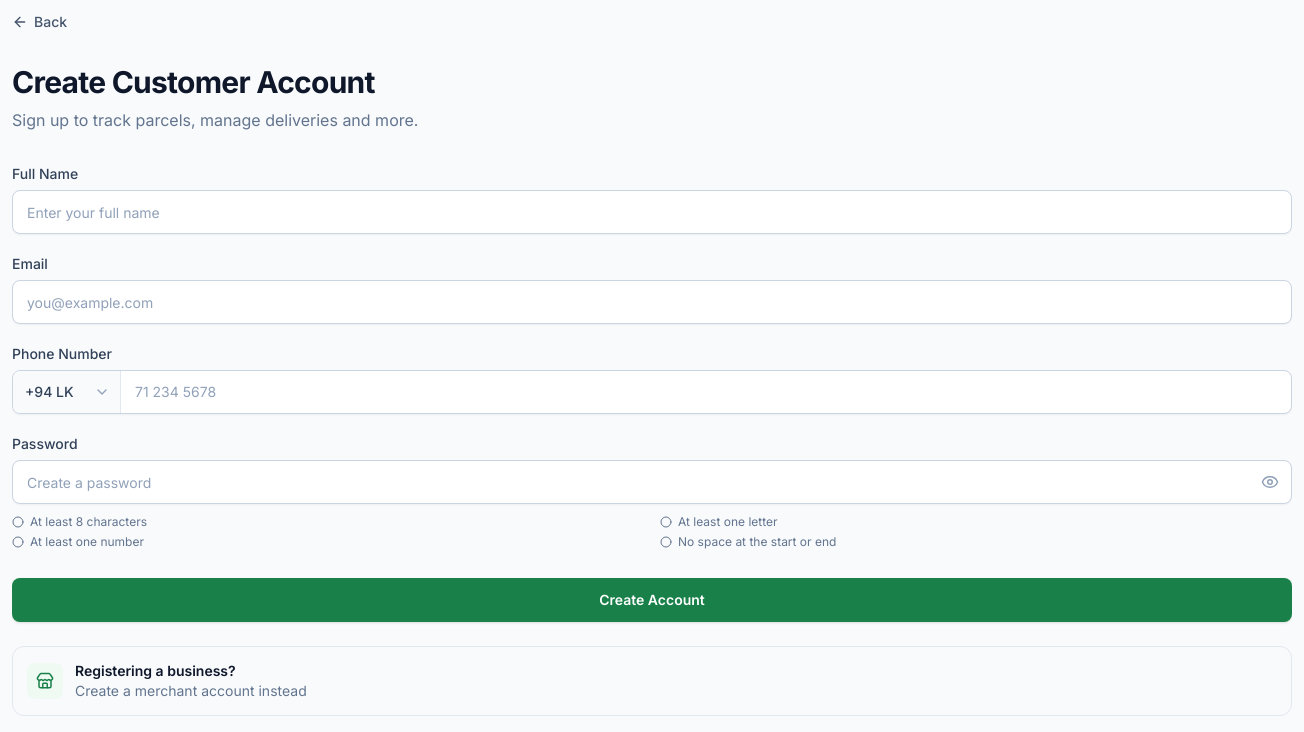
Test: CustomerSignupPage › checks the phone length for the selected country
This screenshot has width=1304, height=732.
In the field labelled "Phone Number": (706, 392) x1=121 y1=371 x2=1291 y2=413, type "71234"
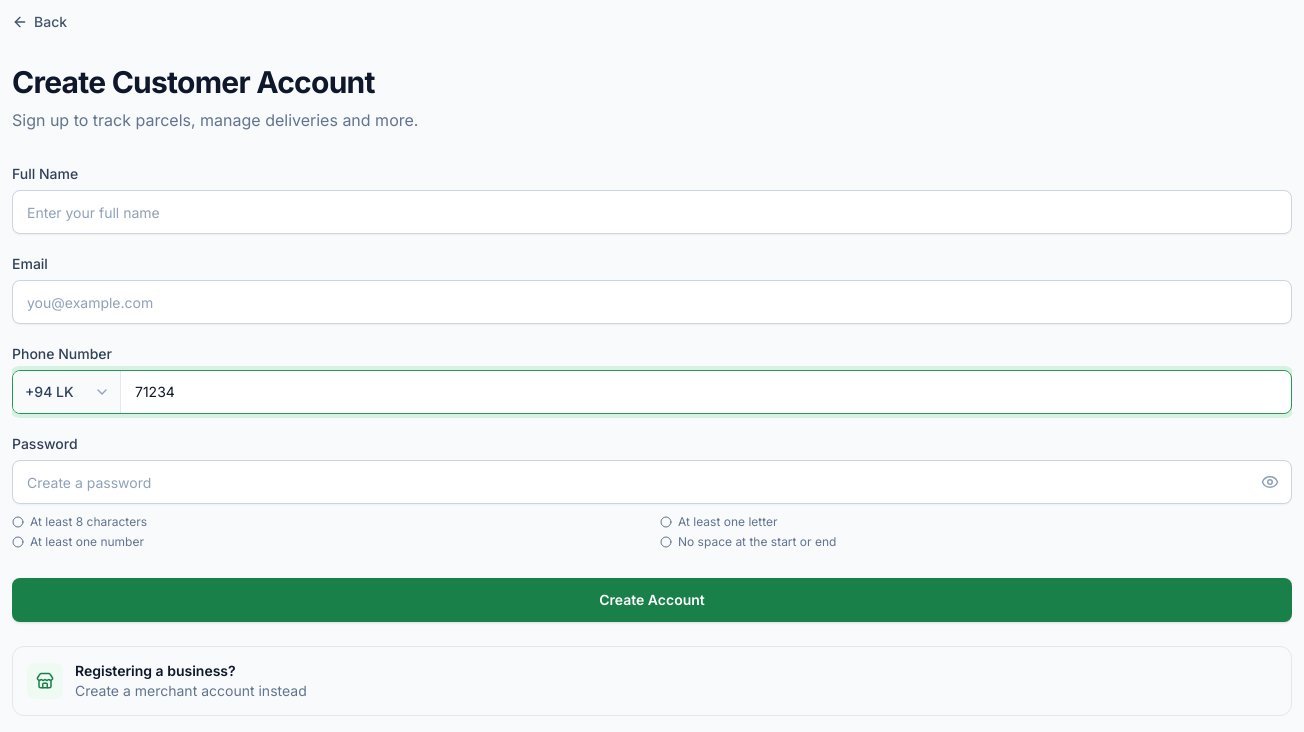
Press Tab
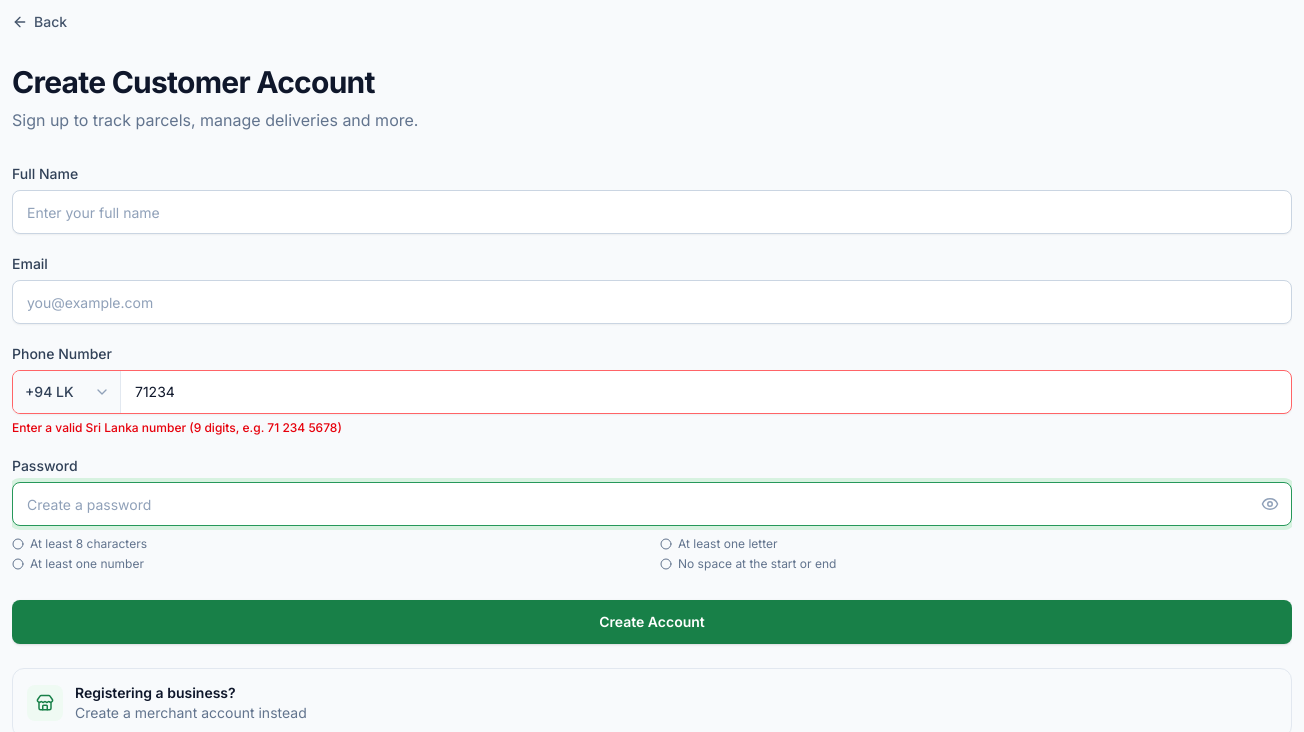
Result: the text "Enter a valid Sri Lanka number (9 digits, e.g. 71 234 5678)" is shown at x1=12 y1=420 x2=342 y2=435
